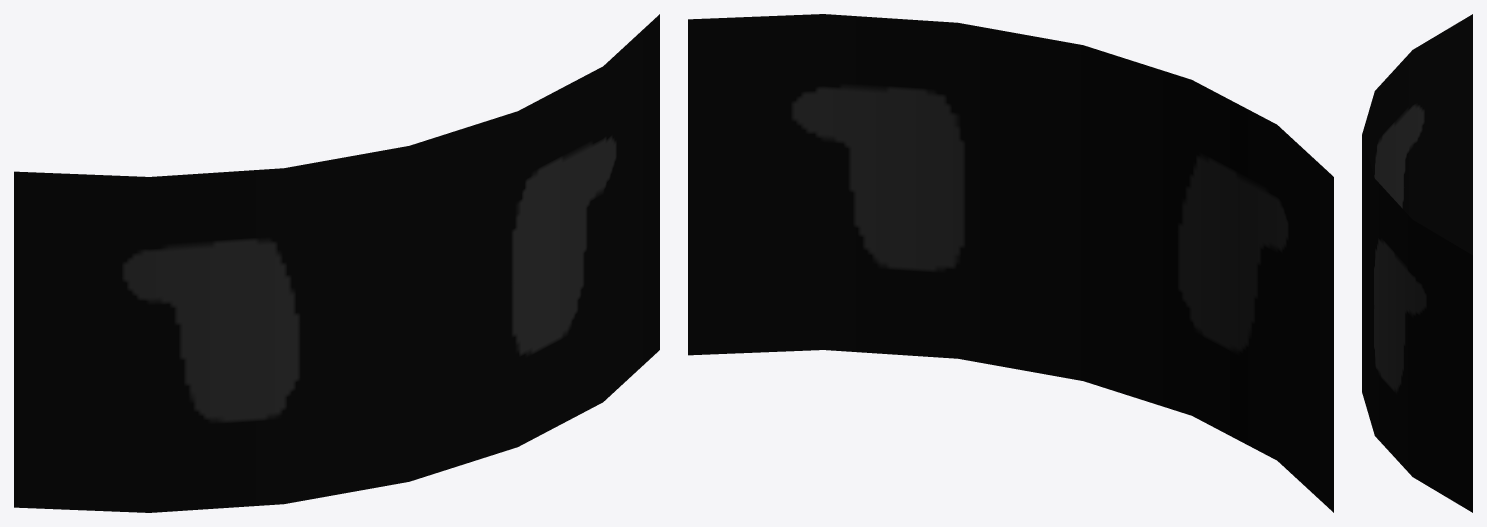
File: worm_eye.fbx
The picture shows the model from 3 angles, left to right: view 1: azimuth 30°, elevation 25°; view 2: azimuth 150°, elevation 25°; view 3: azimuth 270°, elevation 25°; orthographic projection. The views are drawn at different scales.
Visible parts, largest first — view 1: Eye; view 2: Eye; view 3: Eye.
Boxes of the visible parts, box(x1,y1,x2,y2) form: Eye: box(14, 14, 659, 512); Eye: box(688, 14, 1333, 512); Eye: box(1362, 14, 1472, 512).
Bounding box in the file's own units: 49.13 × 24.42 × 9.54.
